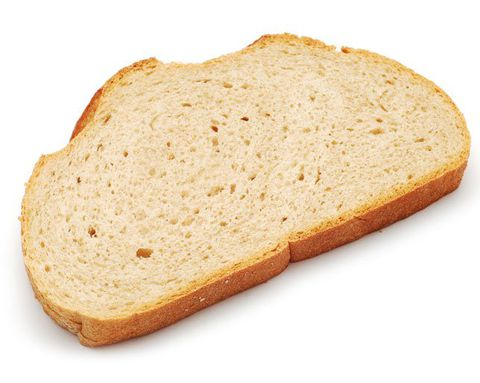slice of bread: (23, 37, 470, 346)
